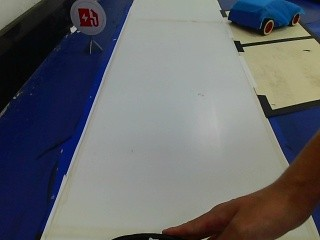battery: (72, 1, 105, 36)
car: (223, 0, 301, 37)
